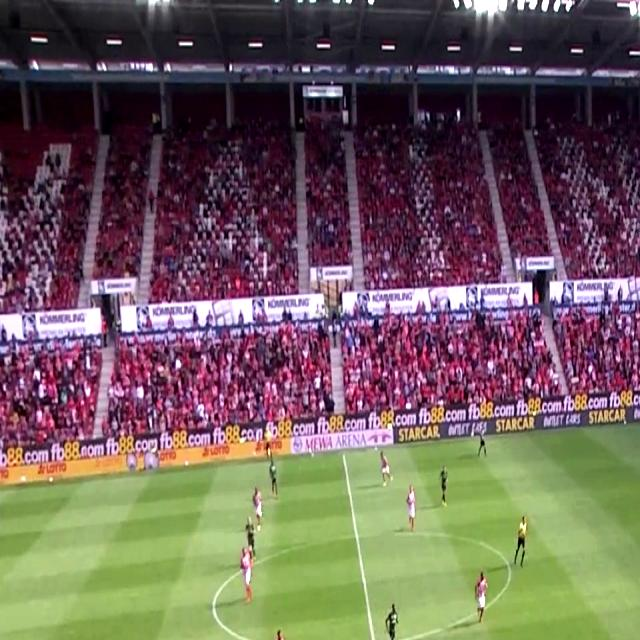referee: (510, 515, 532, 572)
soccer-player: (232, 541, 258, 610), (470, 569, 496, 633), (378, 596, 410, 640), (404, 483, 422, 538), (250, 484, 270, 531), (434, 467, 454, 513), (374, 446, 392, 488), (475, 422, 492, 457), (262, 626, 296, 640)
